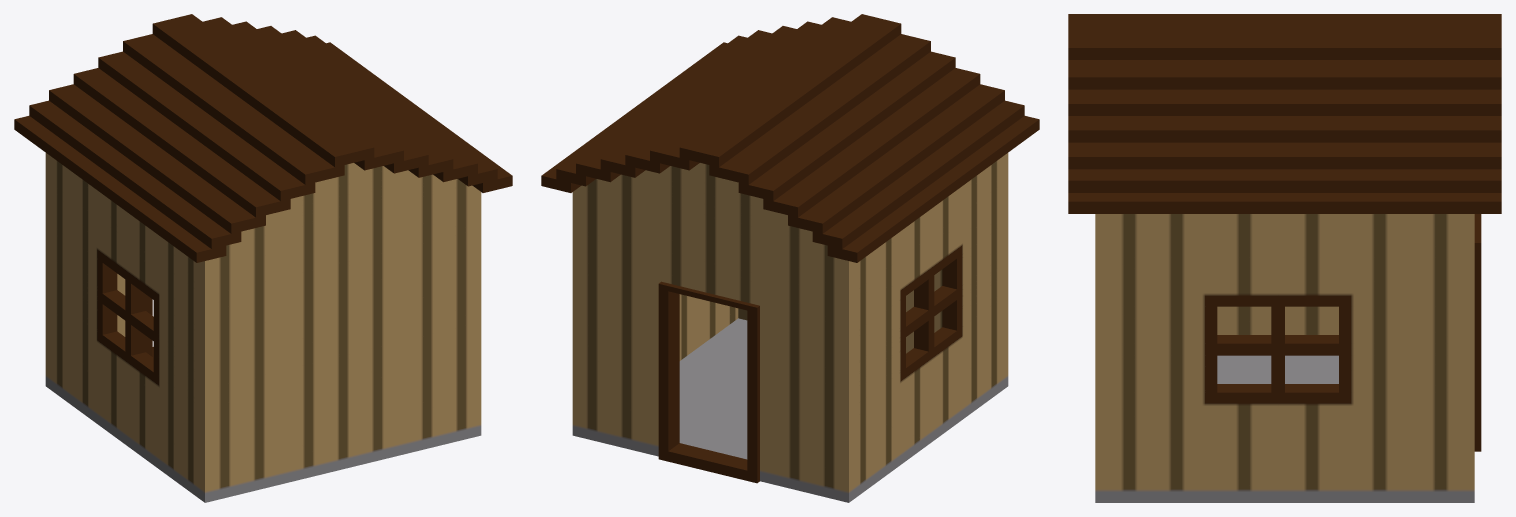
Rendered from Casa_mia.fbx.
3 views of the same model, side by side, from view 1: azimuth 30°, elevation 25°; view 2: azimuth 150°, elevation 25°; view 3: azimuth 270°, elevation 25° (orthographic). The views are drawn at different scales.
Visible parts, largest first — view 1: Box_part, Box_part_1, Box_part_part_1, Box_part_part_part, Box, Box_part_1_part_part, Box_part_2_part, Box_part_1_part_1, Box_part_part, Box_part_3; view 2: Box_part_part_1, Box_part_1_part_1, Box_part, Box_part_part, Box_part_3, Box_part_1_part, Box_part_2, Box_part_1, Box_part_part_part, Box, Box_part_1_part_part; view 3: Box_part_part, Box_part_part_part, Box_part_1_part, Box_part_1_part_part, Box_part_2, Box_part_2_part, Box_part_part_1, Box_part, Box_part_1, Box_part_1_part_1.
Boxes of the visible parts, left/top/right/bottom form: Box_part: left=108, top=87, right=354, bottom=296; Box_part_1: left=128, top=332, right=343, bottom=502; Box_part_part_1: left=14, top=19, right=265, bottom=239; Box_part_part_part: left=267, top=83, right=512, bottom=262; Box: left=128, top=240, right=343, bottom=389; Box_part_1_part_part: left=343, top=322, right=481, bottom=468; Box_part_2_part: left=343, top=229, right=481, bottom=355; Box_part_1_part_1: left=45, top=273, right=153, bottom=446; Box_part_part: left=172, top=14, right=423, bottom=111; Box_part_3: left=45, top=180, right=128, bottom=332; Box_part_part_1: left=699, top=83, right=951, bottom=296; Box_part_1_part_1: left=708, top=328, right=931, bottom=502; Box_part: left=793, top=19, right=1039, bottom=235; Box_part_part: left=541, top=78, right=792, bottom=262; Box_part_3: left=708, top=236, right=931, bottom=389; Box_part_1_part: left=572, top=322, right=747, bottom=471; Box_part_2: left=572, top=229, right=710, bottom=347; Box_part_1: left=906, top=269, right=1008, bottom=441; Box_part_part_part: left=636, top=14, right=881, bottom=107; Box: left=931, top=180, right=1008, bottom=328; Box_part_1_part_part: left=679, top=294, right=747, bottom=386; Box_part_part: left=1278, top=36, right=1501, bottom=257; Box_part_part_part: left=1068, top=36, right=1278, bottom=257; Box_part_1_part: left=1278, top=316, right=1481, bottom=502; Box_part_1_part_part: left=1095, top=368, right=1278, bottom=502; Box_part_2: left=1278, top=214, right=1481, bottom=367; Box_part_2_part: left=1095, top=257, right=1278, bottom=367; Box_part_part_1: left=1278, top=14, right=1501, bottom=36; Box_part: left=1068, top=14, right=1278, bottom=36; Box_part_1: left=1217, top=306, right=1271, bottom=383; Box_part_1_part_1: left=1285, top=306, right=1338, bottom=383.
Bounding box in the file's own units: 4096 × 4032 × 4096.
